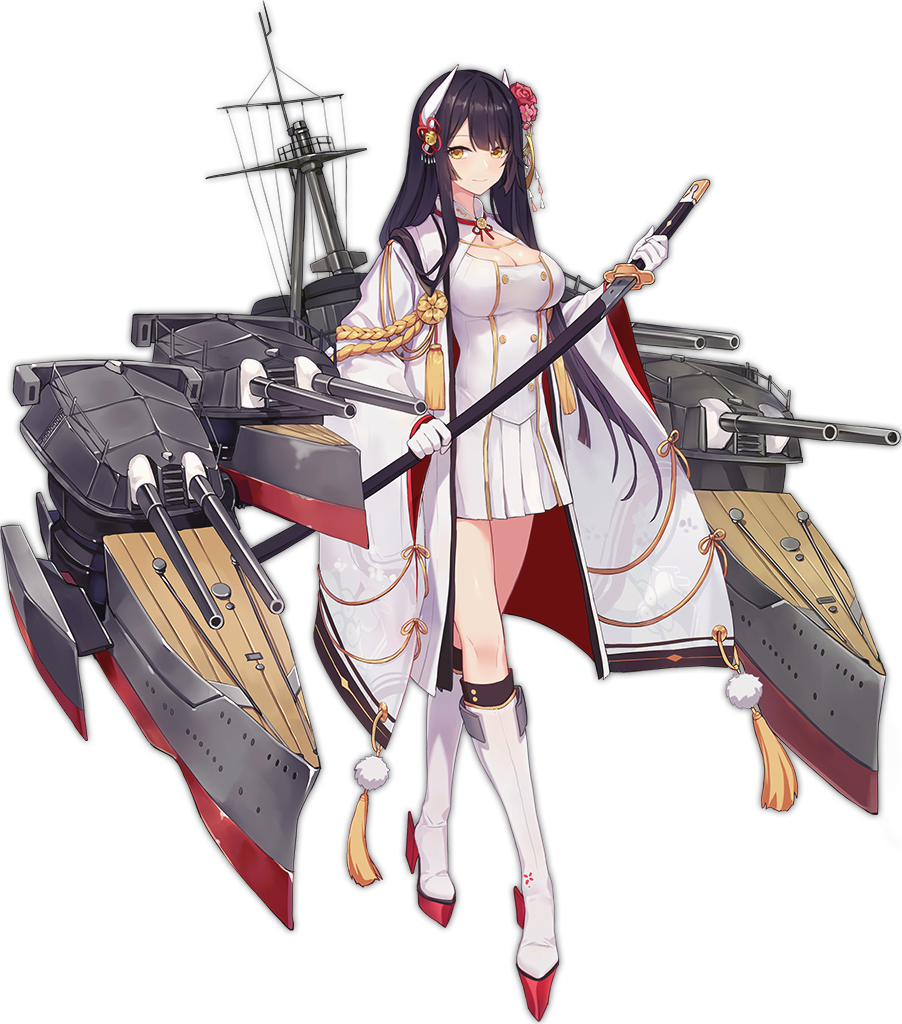person: (141, 70, 692, 701)
